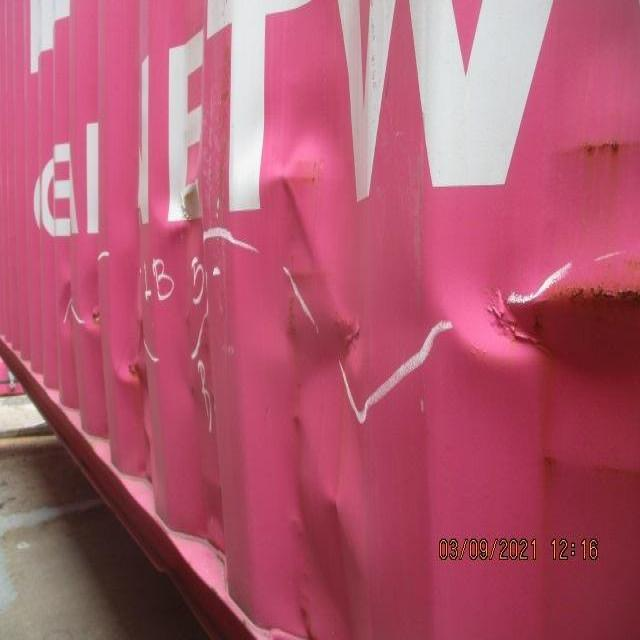dent: (54, 132, 640, 448), (250, 456, 396, 593)
